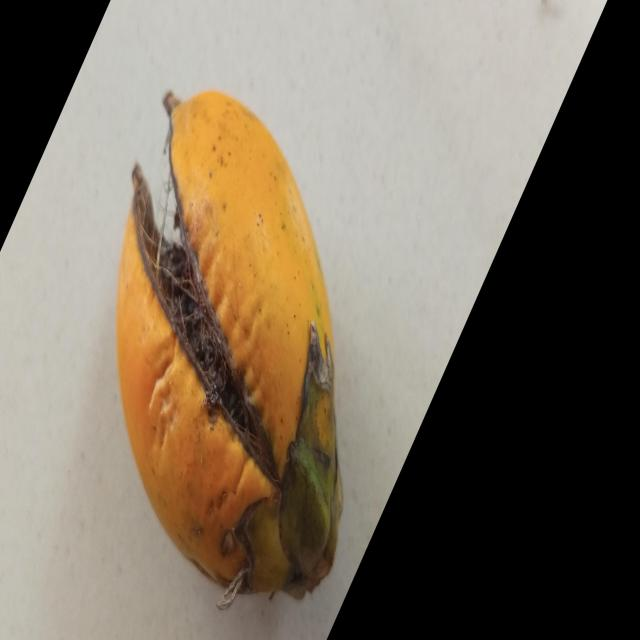damaged: (117, 91, 343, 609)
